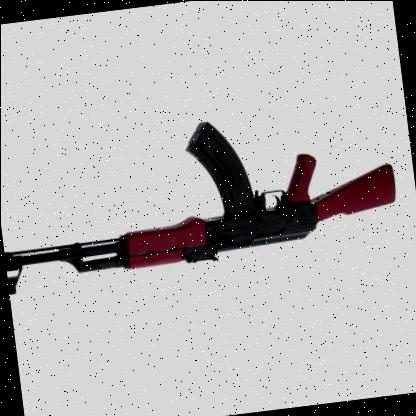rifle: (0, 85, 403, 314)
